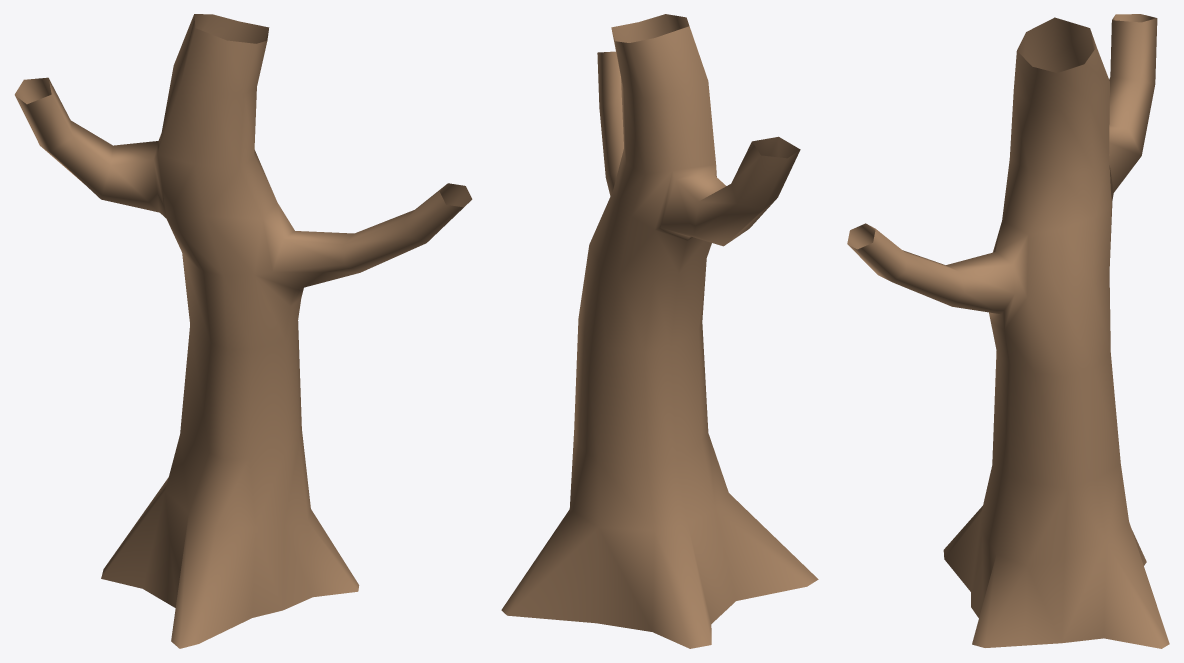
The model's file is test_tronco.fbx.
3 views of the same model, side by side, from view 1: azimuth 30°, elevation 25°; view 2: azimuth 150°, elevation 25°; view 3: azimuth 270°, elevation 25° (orthographic). The views are drawn at different scales.
Parts seen in each view (by area): view 1: Hojas.004; view 2: Hojas.004; view 3: Hojas.004.
Part boxes in pixels (x1,y1,x2,y2): Hojas.004: (14,14,472,648); Hojas.004: (501,14,818,648); Hojas.004: (847,14,1169,648).
Size of the model in its own units: 2.74 by 4.62 by 2.38.
